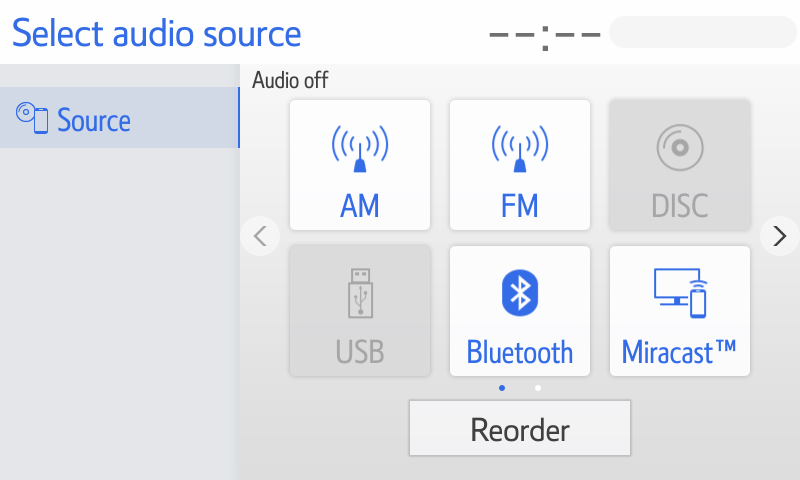touchPart: (280, 95, 437, 230), (606, 243, 754, 382), (446, 244, 593, 379), (444, 97, 593, 230), (403, 397, 641, 459), (760, 216, 797, 256)
untouchPart: (286, 244, 436, 383), (608, 97, 757, 230), (2, 83, 242, 159), (477, 8, 796, 56), (7, 11, 301, 55), (240, 214, 279, 255)
